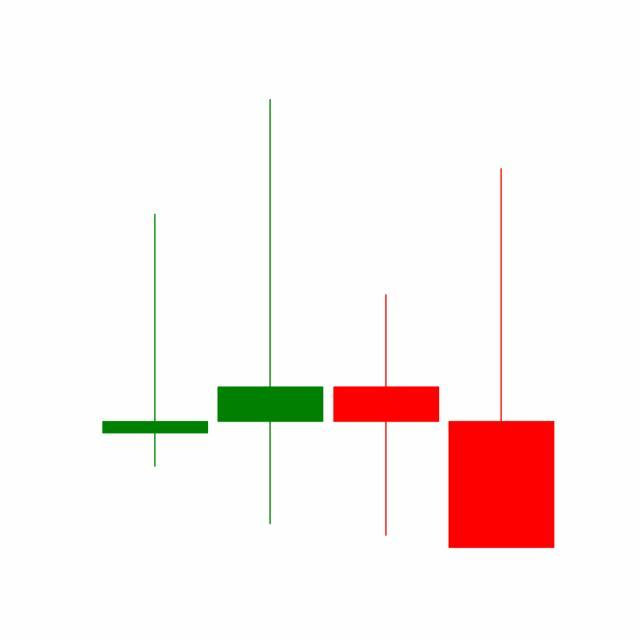Spinning Top: (329, 292, 445, 539)
